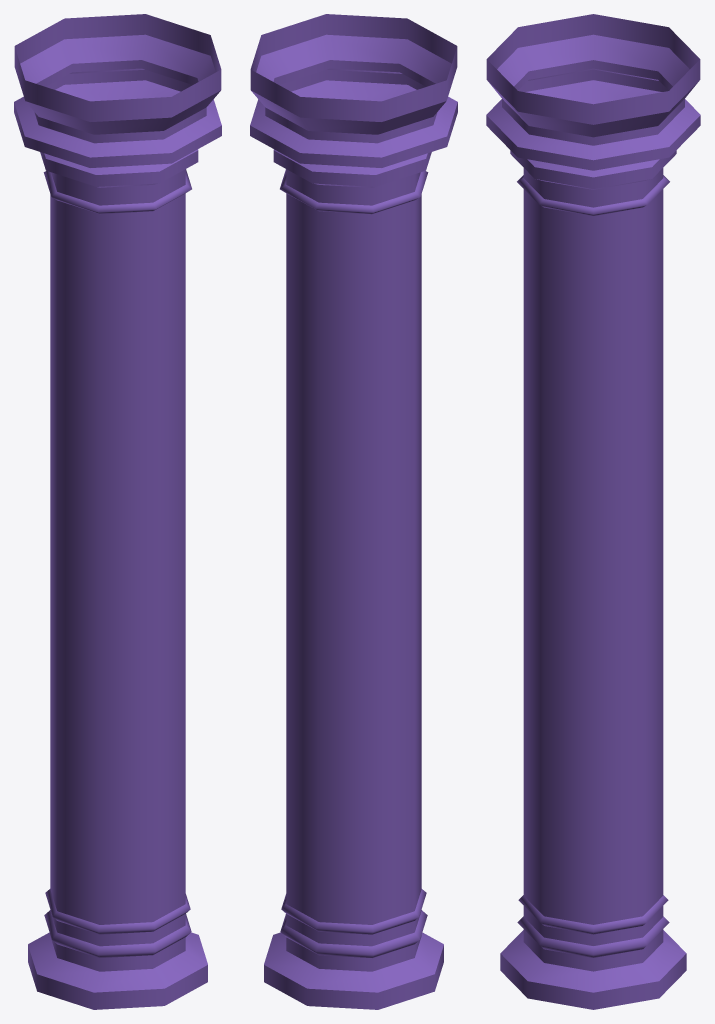
The model's file is Tower_Base_Column_Art.fbx.
The picture shows the model from 3 angles, left to right: view 1: azimuth 30°, elevation 25°; view 2: azimuth 150°, elevation 25°; view 3: azimuth 270°, elevation 25°; orthographic projection.
Parts seen in each view (by area): view 1: Tower_Base_Column_Art; view 2: Tower_Base_Column_Art; view 3: Tower_Base_Column_Art.
Part boxes in pixels (<box>): Tower_Base_Column_Art: <box>14,14,221,1009</box>; Tower_Base_Column_Art: <box>250,14,457,1009</box>; Tower_Base_Column_Art: <box>486,14,700,1009</box>.
Bounding box in the file's own units: 156 × 733 × 156.
